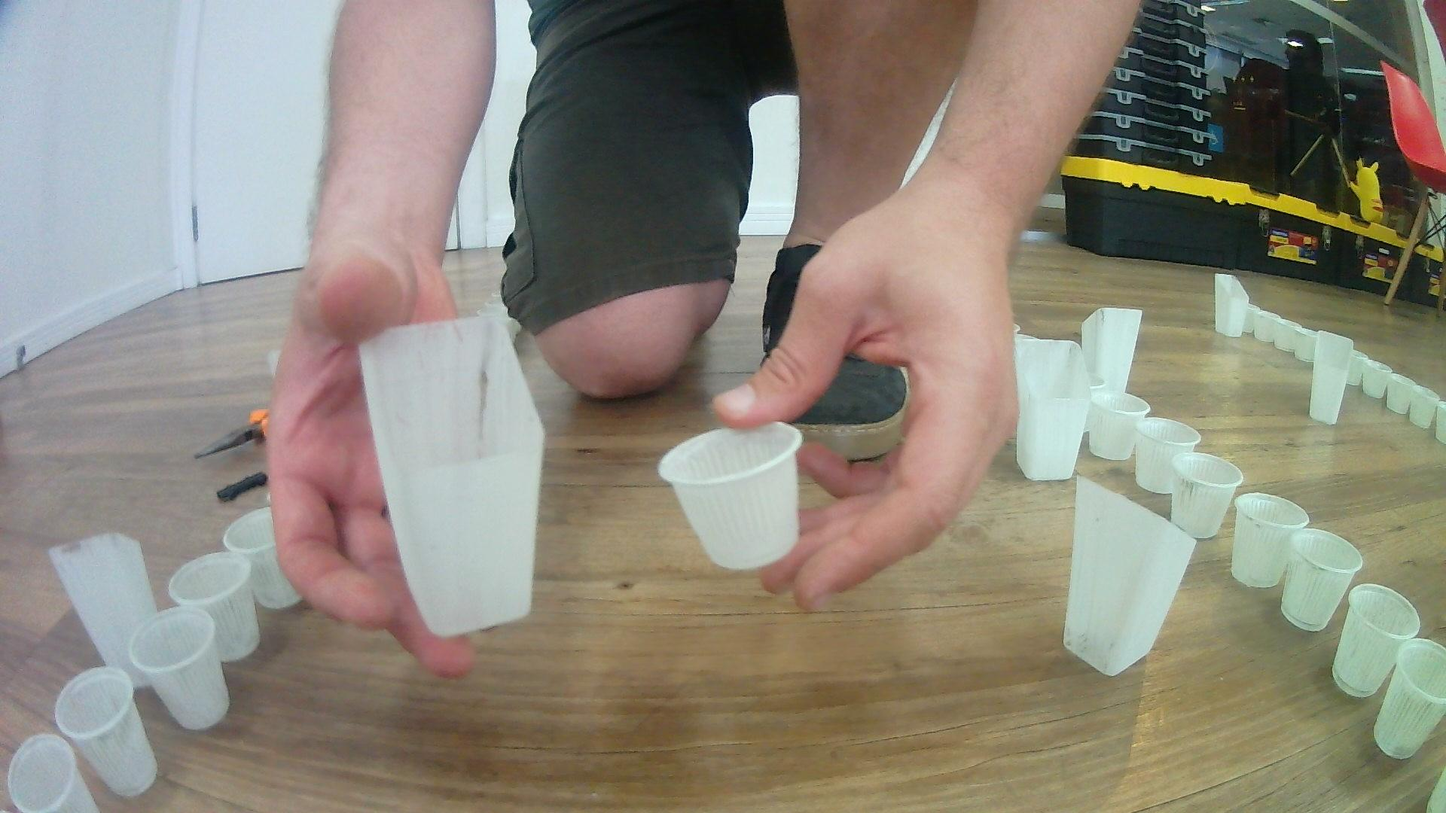erva_daninha: (358, 304, 549, 641), (1061, 473, 1197, 678), (46, 529, 163, 687), (1010, 334, 1094, 482), (1081, 306, 1144, 397), (1308, 330, 1355, 426), (1213, 273, 1251, 338)
planta: (655, 421, 804, 572), (51, 665, 159, 799), (127, 607, 231, 732), (166, 550, 261, 664), (1331, 583, 1421, 699), (1371, 638, 1446, 760), (1280, 527, 1365, 632), (221, 505, 302, 611), (5, 733, 102, 813), (1230, 492, 1310, 589), (1170, 452, 1245, 540), (1133, 418, 1202, 495), (1085, 391, 1152, 462), (1408, 385, 1440, 430), (1387, 371, 1417, 415), (1362, 358, 1393, 399), (1292, 324, 1323, 362), (1265, 315, 1296, 352), (1246, 302, 1271, 341), (1345, 349, 1369, 387), (1434, 400, 1446, 444)
